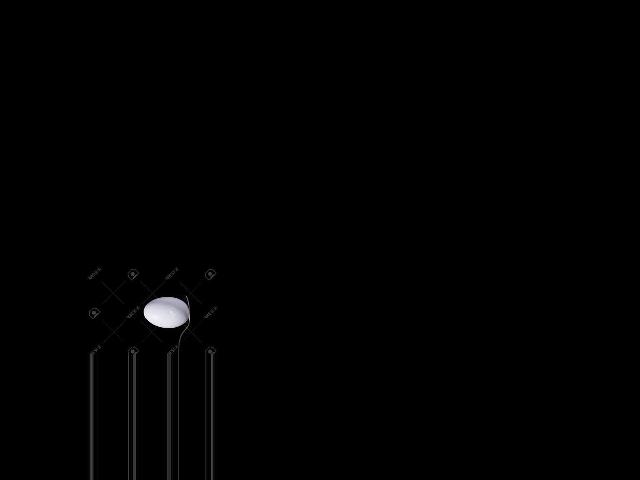egg: (144, 297, 189, 328)
